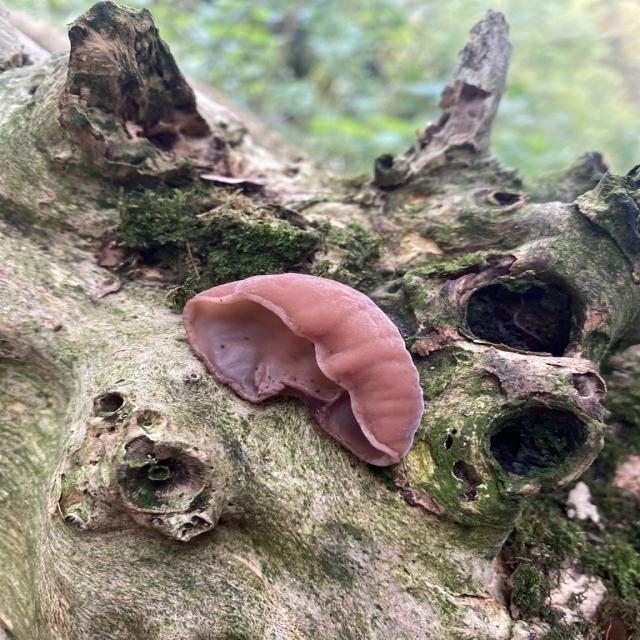Matang: (179, 266, 428, 469)
